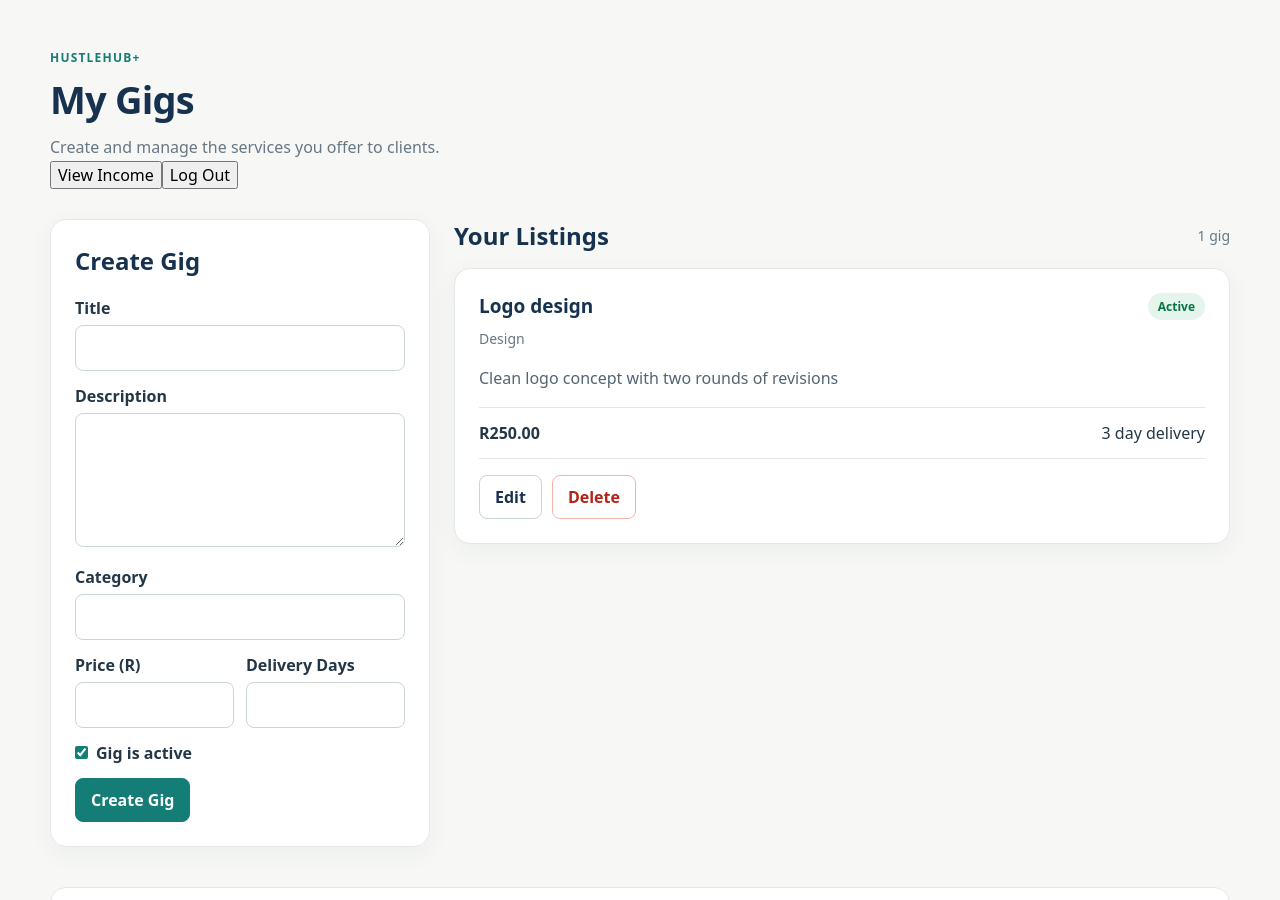
MyGigsPage › deletes a confirmed gig and reloads the list
The image size is (1280, 900).
Click the button "Delete" at (594, 497), box [552,475,636,519]
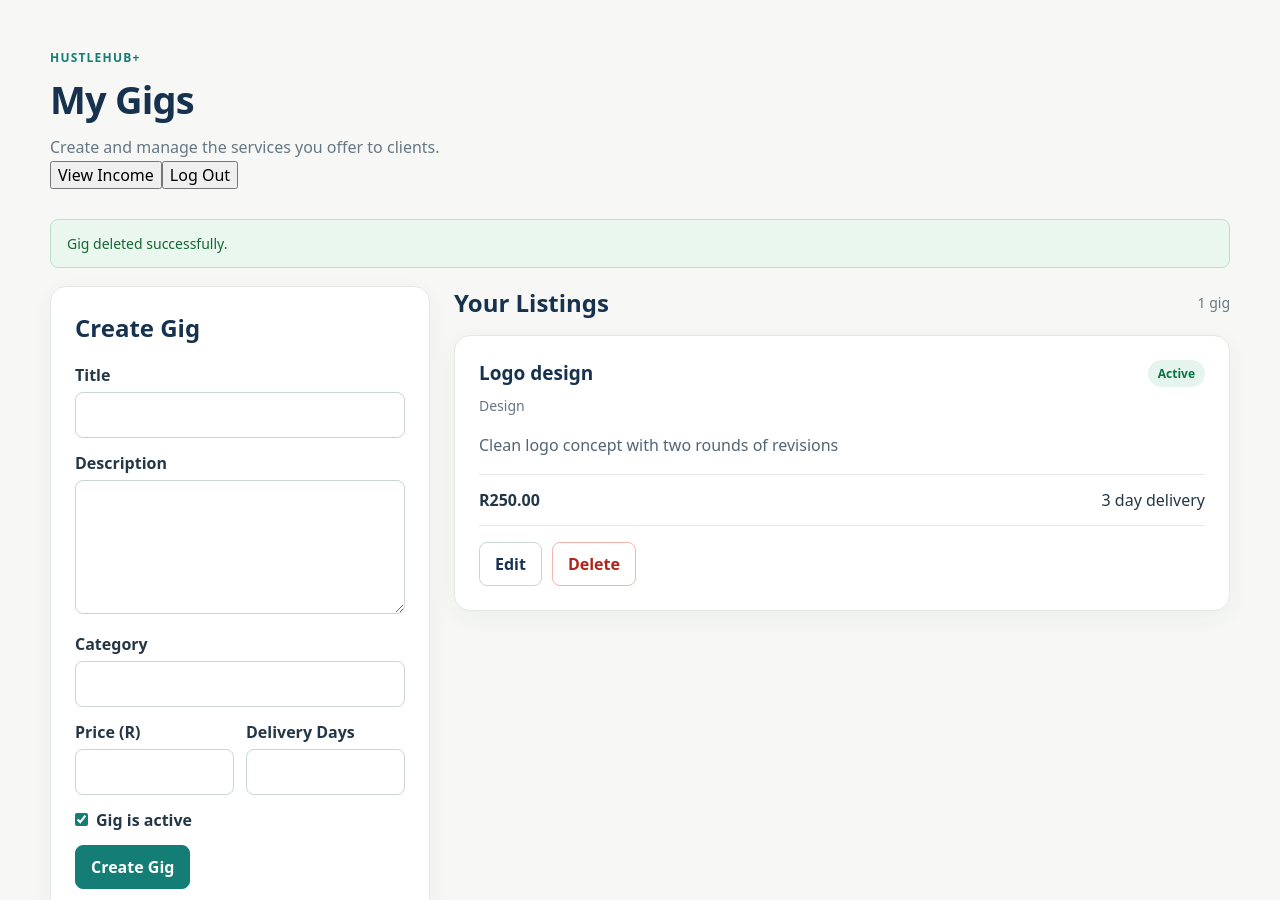
Now the text "Gig deleted successfully." is shown, box [50,219,1230,268]
